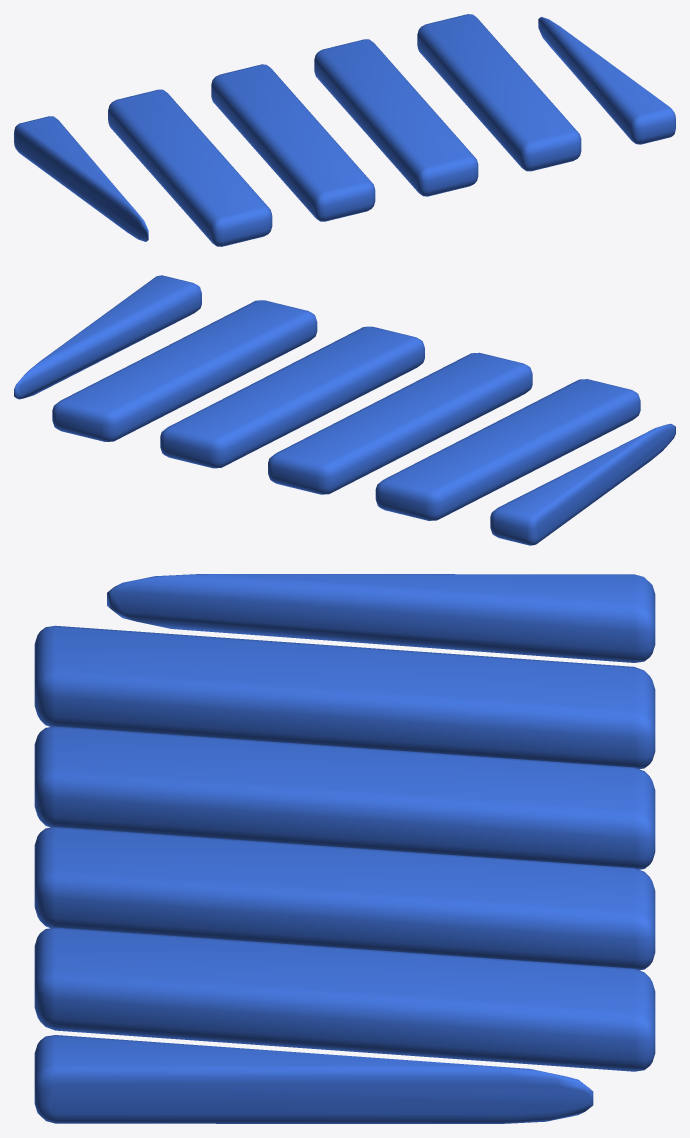
File: RoadMarkupParking_B_UV (2).fbx
3 renders of one model, top to bottom at view 1: azimuth 30°, elevation 25°; view 2: azimuth 150°, elevation 25°; view 3: azimuth 270°, elevation 25°, orthographic. The views are drawn at different scales.
Visible parts, largest first — view 1: Cube.002; view 2: Cube.002; view 3: Cube.002.
Part boxes in pixels (x1=…): Cube.002: x1=14, y1=14, x2=675, y2=246; Cube.002: x1=14, y1=275, x2=675, y2=545; Cube.002: x1=34, y1=574, x2=655, y2=1123.
Bounding box in the file's own units: 185 × 10 × 96.82.
